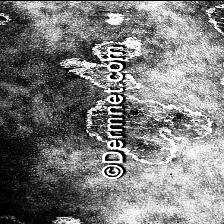Non-Cancerous Skin Condition: (86, 96, 210, 164), (62, 58, 106, 88), (55, 215, 82, 224), (108, 13, 128, 24), (0, 12, 12, 25)
